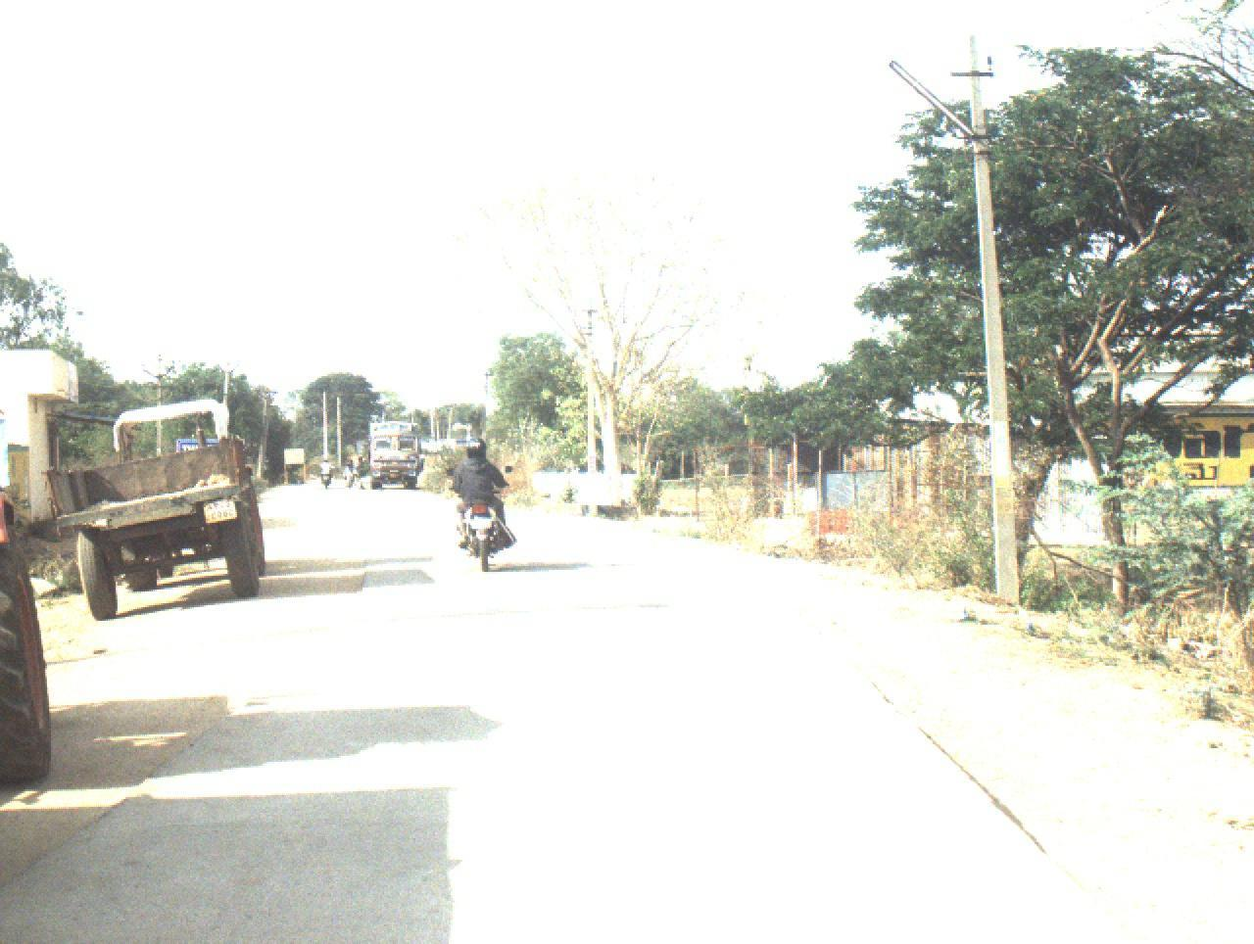streetlight: (889, 59, 1001, 158)
